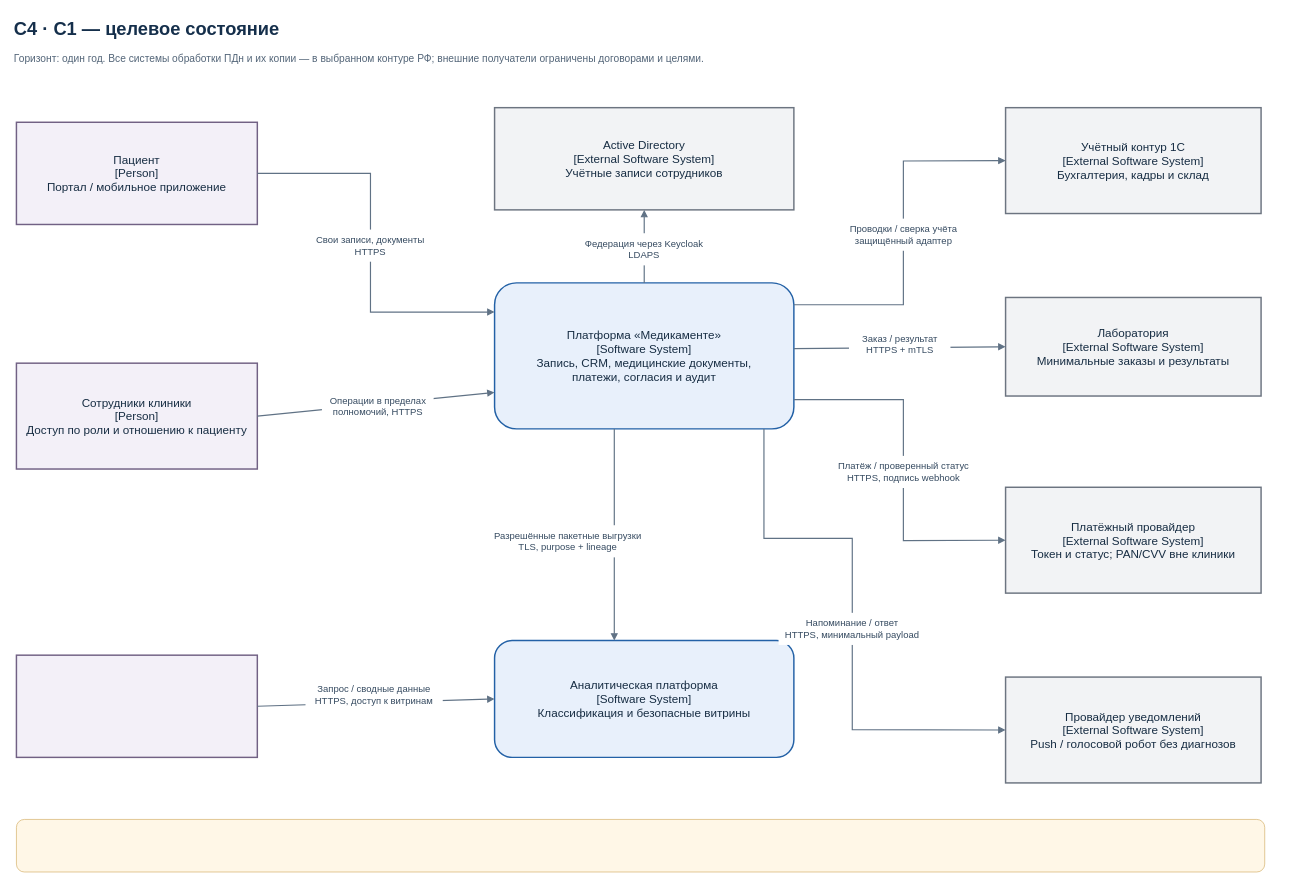
This 1302x885 diagram has some shape labels left out. The centre of each missing label's shape, as x and y in pixels:
Аналитик / руководство [Person] Разрешённые показатели: [136,706]
Связи включают передачу запросов, результатов и статусов.: [640,845]
